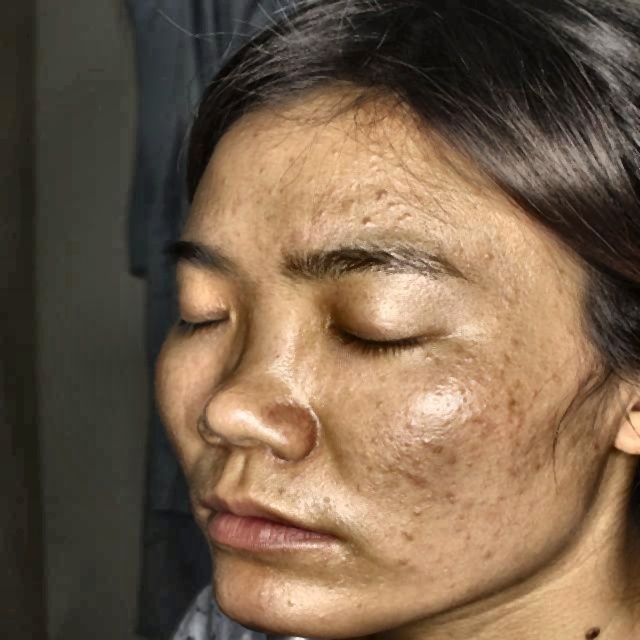comedone: (398, 471, 438, 493), (360, 207, 380, 231)
